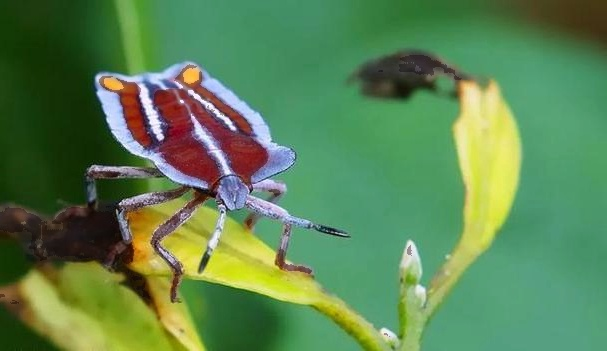Stink_Bug: (98, 65, 294, 258)
